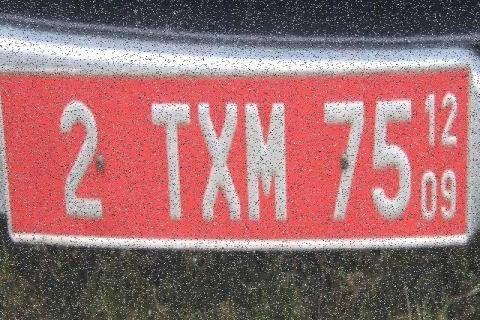LicensePlate: (0, 60, 472, 243)
